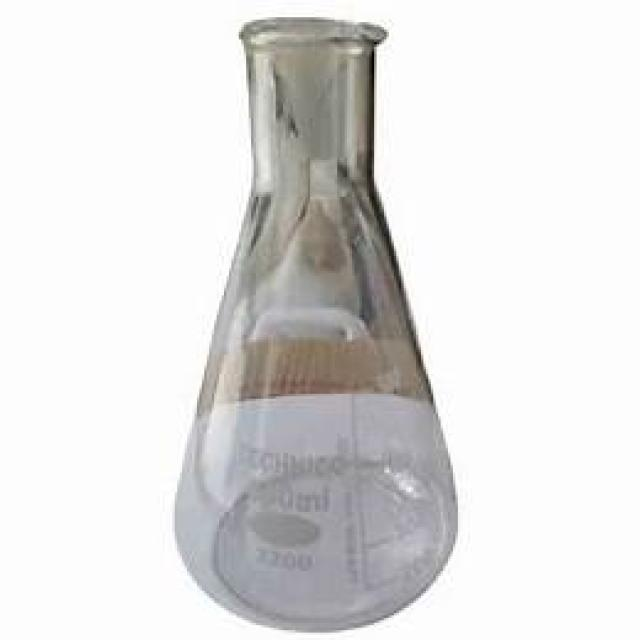Titrarion: (151, 21, 466, 632)
